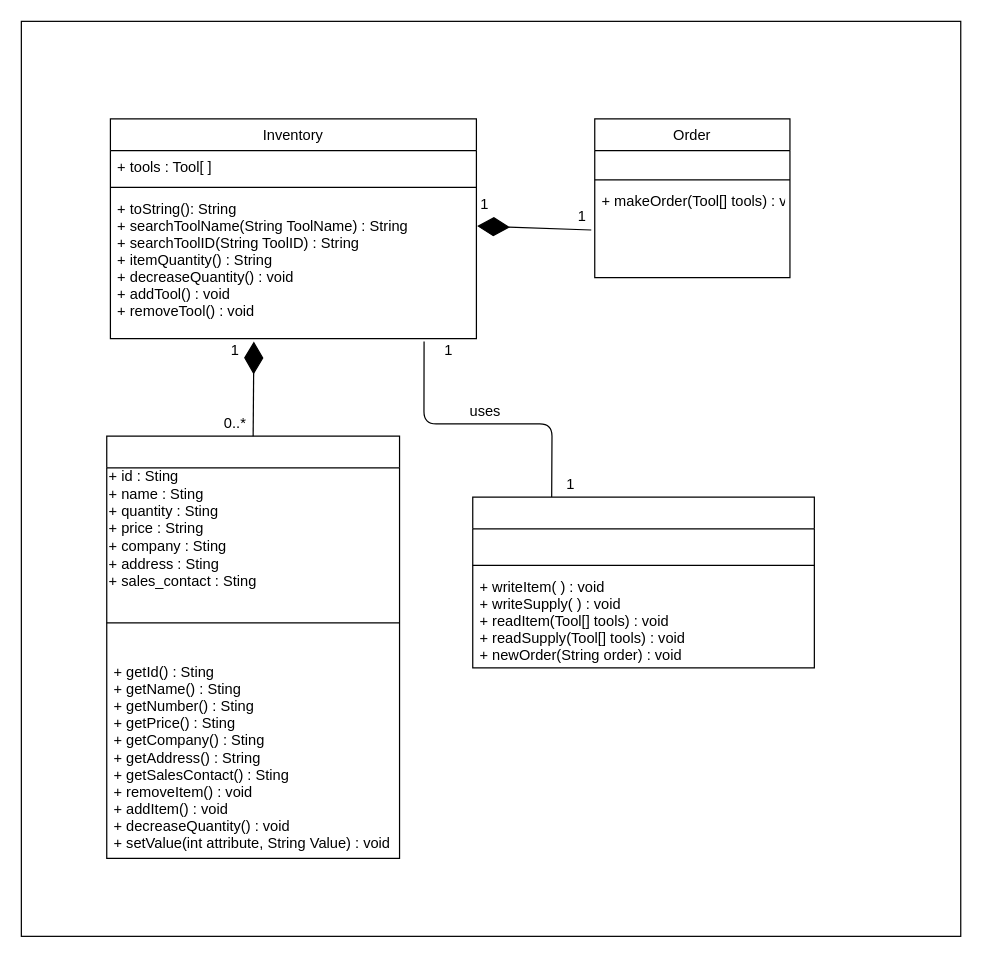
Image size: 982x958. Some labels were removed from this diagram. The box of each missing label's shape, as (x1, y1, x2, y2) in pixels:
TextIO: (472, 496, 814, 668)
Tool: (106, 435, 400, 858)
